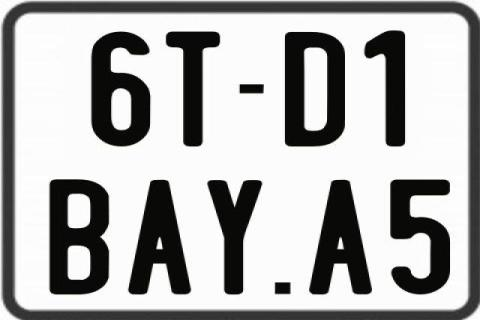0: (91, 32, 153, 150), (388, 178, 450, 294), (362, 29, 405, 149)
A: (127, 177, 195, 293), (308, 180, 374, 298)
B: (48, 177, 113, 297)
D: (285, 31, 351, 149)
T: (164, 31, 222, 148)
Y: (207, 179, 267, 295)
